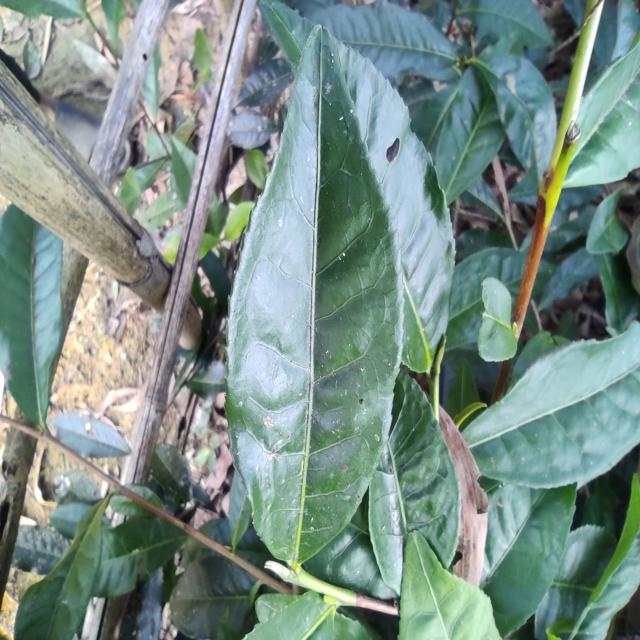Category D(7+ days, Not for Tea): (216, 13, 418, 581)
